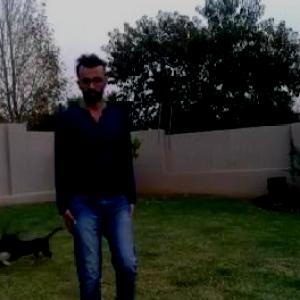follow: (57, 57, 136, 299)
